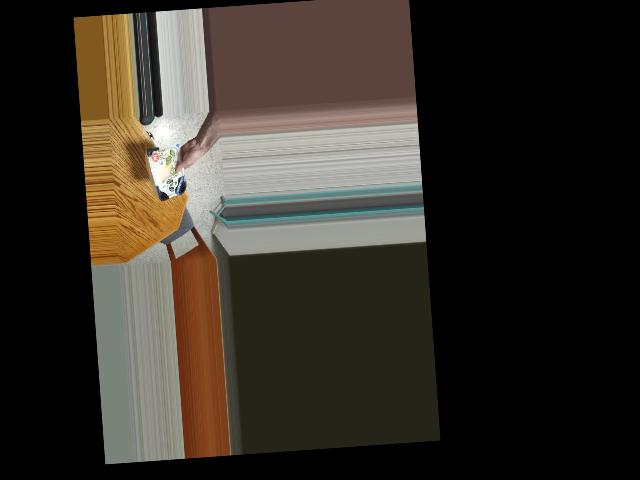cheese: (151, 140, 190, 202)
